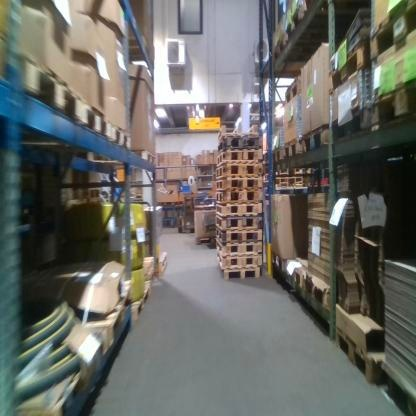pallets: (0, 65, 164, 168), (264, 91, 416, 166), (210, 122, 269, 284), (322, 2, 415, 94), (259, 2, 329, 79), (330, 324, 389, 395), (281, 259, 338, 309), (121, 270, 155, 325), (264, 168, 324, 192), (155, 196, 198, 209)
